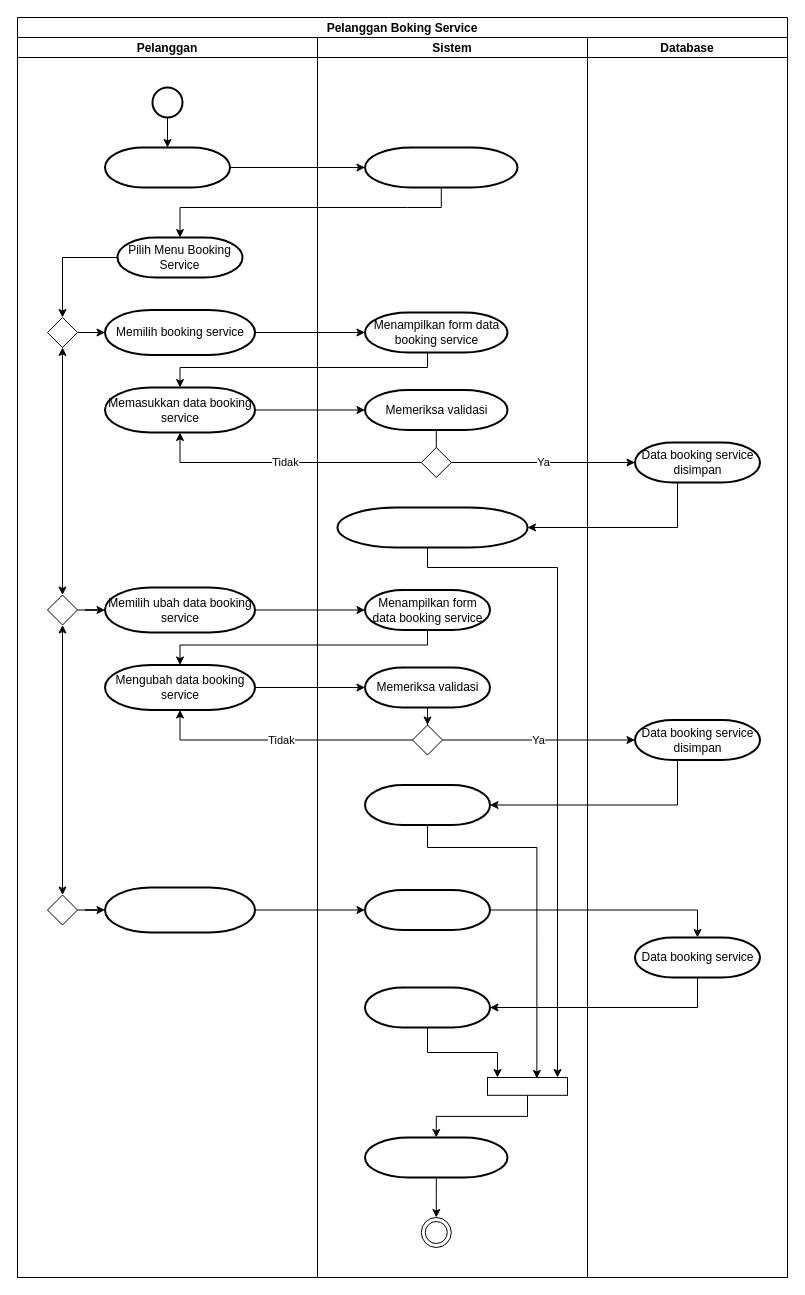
Some shapes in this 805 by 1295 pixel diagram are drawn without their labels. Each missing label, with the centre of its shape:
"Membuka Website Jasa Service" goes at (x=167, y=167).
"Memeriksa adanya data" goes at (x=427, y=909).
"Memilih lihat data booking service" goes at (x=180, y=909).
"Menampilakan pesan berhasil booking service" goes at (x=432, y=527).
"Menampilakan pesan berhasil edit data" goes at (x=427, y=805).
"Menampilkan data booking service" goes at (x=427, y=1007).
"Menampilkan halaman booking service" goes at (x=436, y=1157).
"Menampilkan halaman Home Pelanggan" goes at (x=441, y=167).
